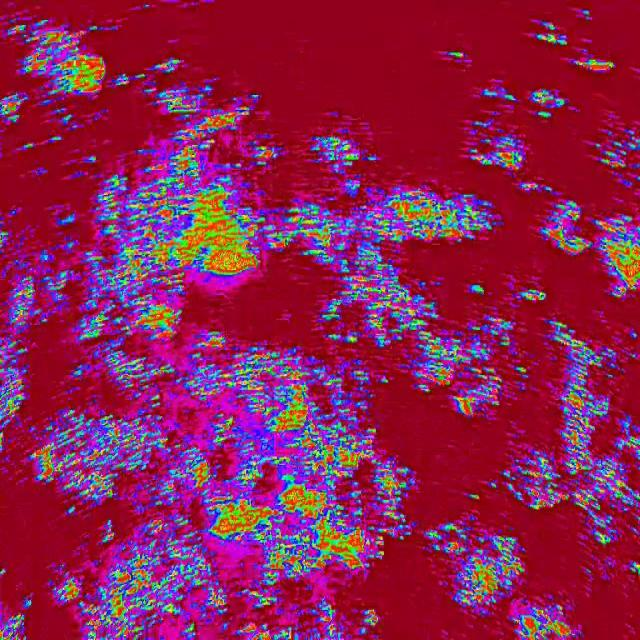fire: (0, 0, 163, 509), (164, 323, 444, 509), (51, 510, 386, 640), (442, 322, 640, 508), (164, 54, 273, 286), (316, 178, 390, 320), (439, 517, 527, 617), (390, 187, 500, 251), (593, 211, 640, 303), (587, 510, 640, 576), (312, 125, 377, 177), (512, 595, 586, 640), (538, 198, 593, 256), (391, 264, 438, 318), (273, 194, 316, 253), (462, 134, 530, 171), (589, 126, 639, 172), (387, 512, 442, 552), (0, 591, 35, 640), (533, 78, 566, 123), (508, 274, 550, 306), (534, 13, 570, 48), (573, 50, 617, 74), (482, 81, 516, 111), (163, 286, 189, 320), (442, 50, 471, 66)
